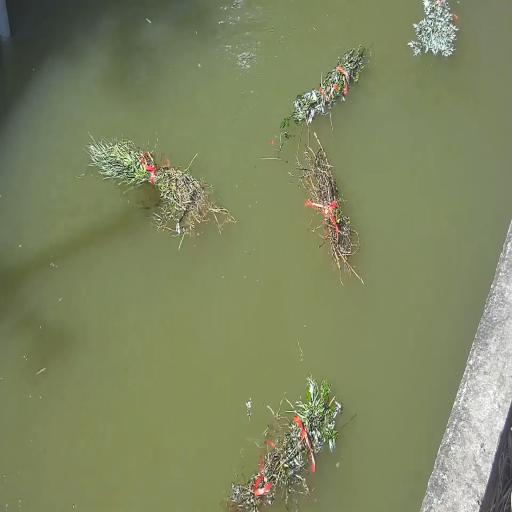twig: (230, 375, 342, 512), (87, 136, 235, 235), (299, 133, 362, 282), (282, 45, 366, 128), (408, 0, 458, 56)
